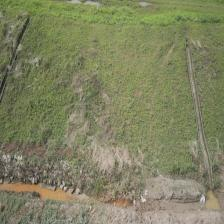slope drain: (185, 42, 214, 187), (0, 18, 33, 101)
